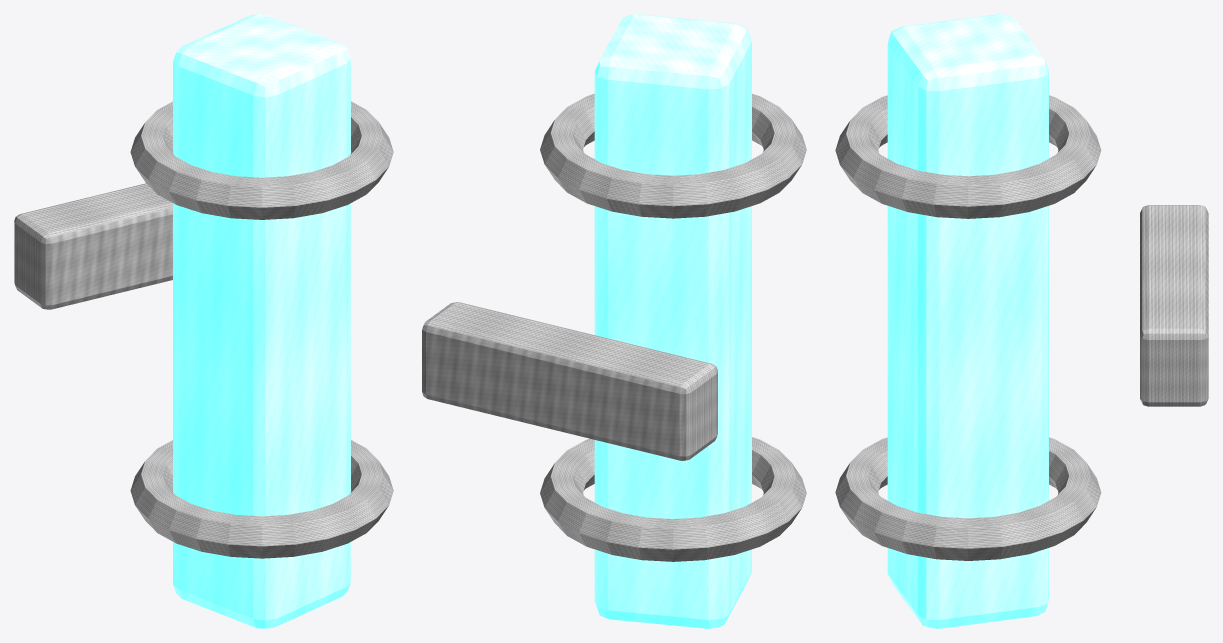
File: item-iron-rod_variant_d.glb
The picture shows the model from 3 angles, left to right: view 1: azimuth 30°, elevation 25°; view 2: azimuth 150°, elevation 25°; view 3: azimuth 270°, elevation 25°; orthographic projection.
Parts seen in each view (by area): view 1: Long component.003, Variant modular rail, Machined collar, Machined collar.007; view 2: Long component.003, Variant modular rail, Machined collar, Machined collar.007; view 3: Long component.003, Machined collar, Machined collar.007, Variant modular rail.
Part boxes in pixels (x1=…): Long component.003: x1=173, y1=14, x2=350, y2=628; Variant modular rail: x1=14, y1=183, x2=172, y2=309; Machined collar: x1=130, y1=101, x2=393, y2=219; Machined collar.007: x1=130, y1=440, x2=393, y2=558; Long component.003: x1=594, y1=14, x2=751, y2=628; Variant modular rail: x1=422, y1=302, x2=717, y2=460; Machined collar: x1=540, y1=93, x2=806, y2=218; Machined collar.007: x1=540, y1=437, x2=806, y2=561; Long component.003: x1=887, y1=14, x2=1048, y2=628; Machined collar: x1=835, y1=95, x2=1101, y2=218; Machined collar.007: x1=835, y1=437, x2=1101, y2=560; Variant modular rail: x1=1140, y1=205, x2=1208, y2=406.
Size of what is drawn, in the model's own units: 0.36 by 0.72 by 0.435.
3 materials, 3 textured.
